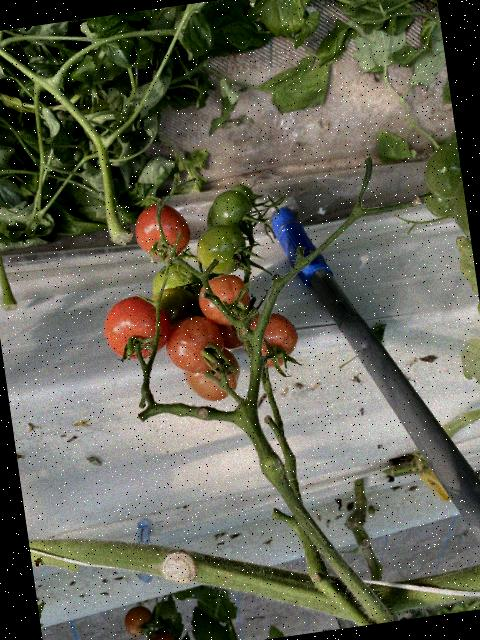l_fully_ripened: (100, 291, 175, 364), (161, 313, 228, 378), (131, 199, 194, 264), (239, 309, 302, 370), (215, 319, 245, 351), (141, 627, 175, 640)
l_green: (193, 221, 250, 279), (148, 283, 211, 330), (149, 259, 210, 304), (419, 142, 465, 201), (207, 188, 255, 235), (449, 167, 473, 255), (423, 182, 458, 220), (150, 599, 179, 631), (226, 181, 256, 211)
l_half_ripened: (181, 346, 245, 406), (196, 272, 254, 329), (122, 603, 155, 638)
